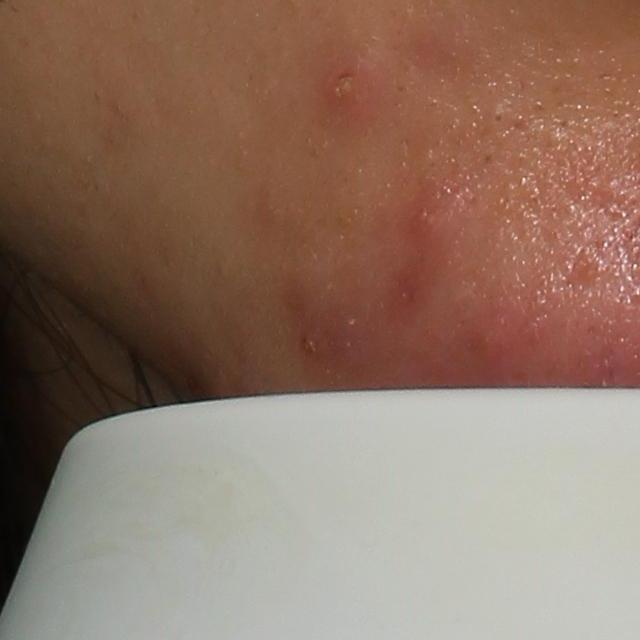comedo: (487, 109, 506, 127)
